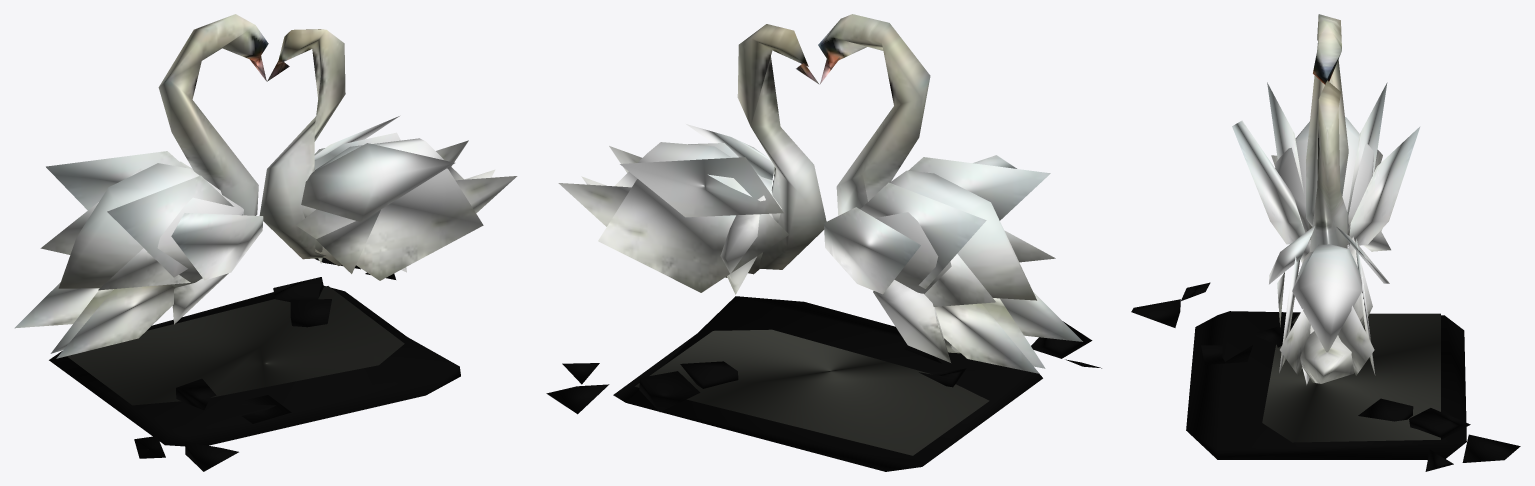
The model's file is Swan.glb.
The picture shows the model from 3 angles, left to right: view 1: azimuth 30°, elevation 25°; view 2: azimuth 150°, elevation 25°; view 3: azimuth 270°, elevation 25°; orthographic projection. The views are drawn at different scales.
Parts seen in each view (by area): view 1: Obj3d66-14735589-2-74; view 2: Obj3d66-14735589-2-74; view 3: Obj3d66-14735589-2-74.
Boxes of the visible parts, box(x1,y1,x2,y2) form: Obj3d66-14735589-2-74: box(14, 14, 517, 471); Obj3d66-14735589-2-74: box(546, 14, 1101, 471); Obj3d66-14735589-2-74: box(1131, 14, 1520, 471).
Bounding box in the file's own units: 1.29 × 0.9687 × 0.9657.
1 material, 1 textured.
